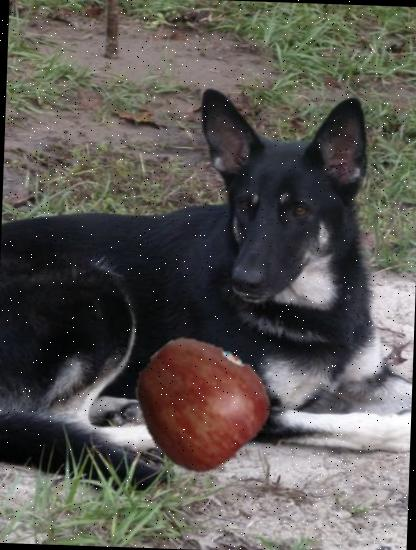Apple: (131, 332, 271, 472)
